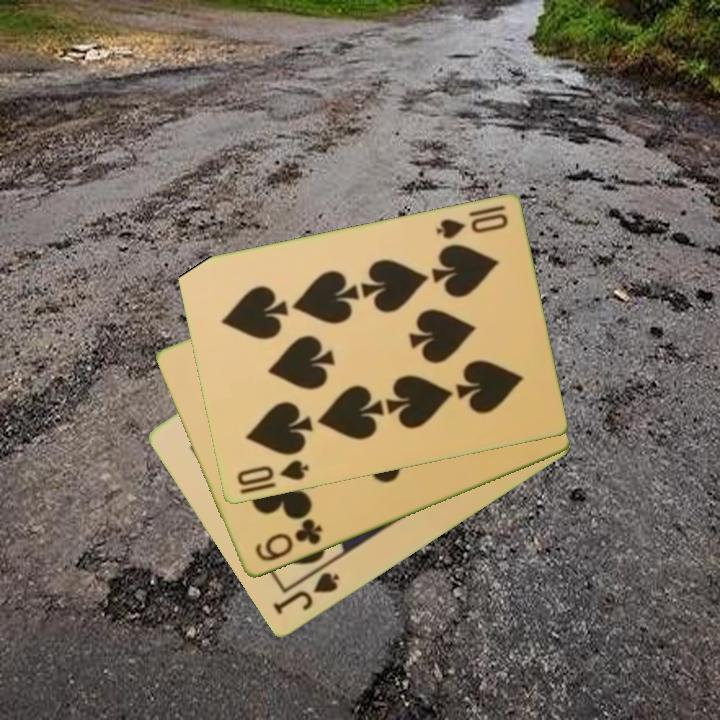10s: (432, 202, 511, 243), (233, 457, 312, 490)
6c: (251, 515, 325, 565)
Js: (269, 569, 343, 619)
